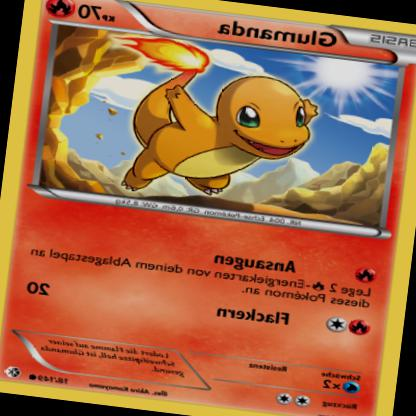Charmander: (106, 43, 325, 214)
